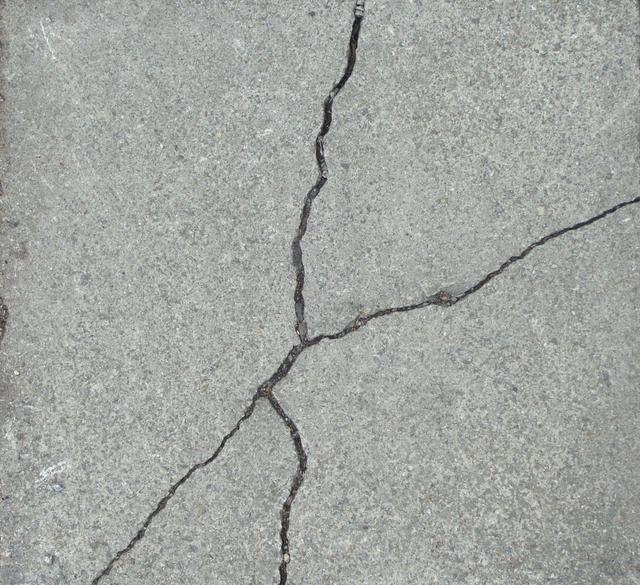crack: (242, 1, 640, 354)
